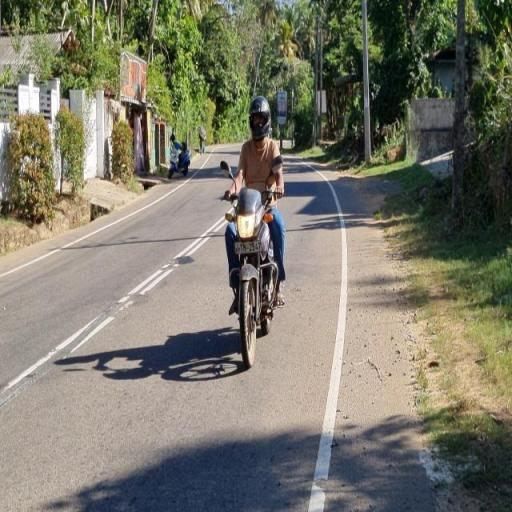double_white_line: (114, 213, 224, 312)
